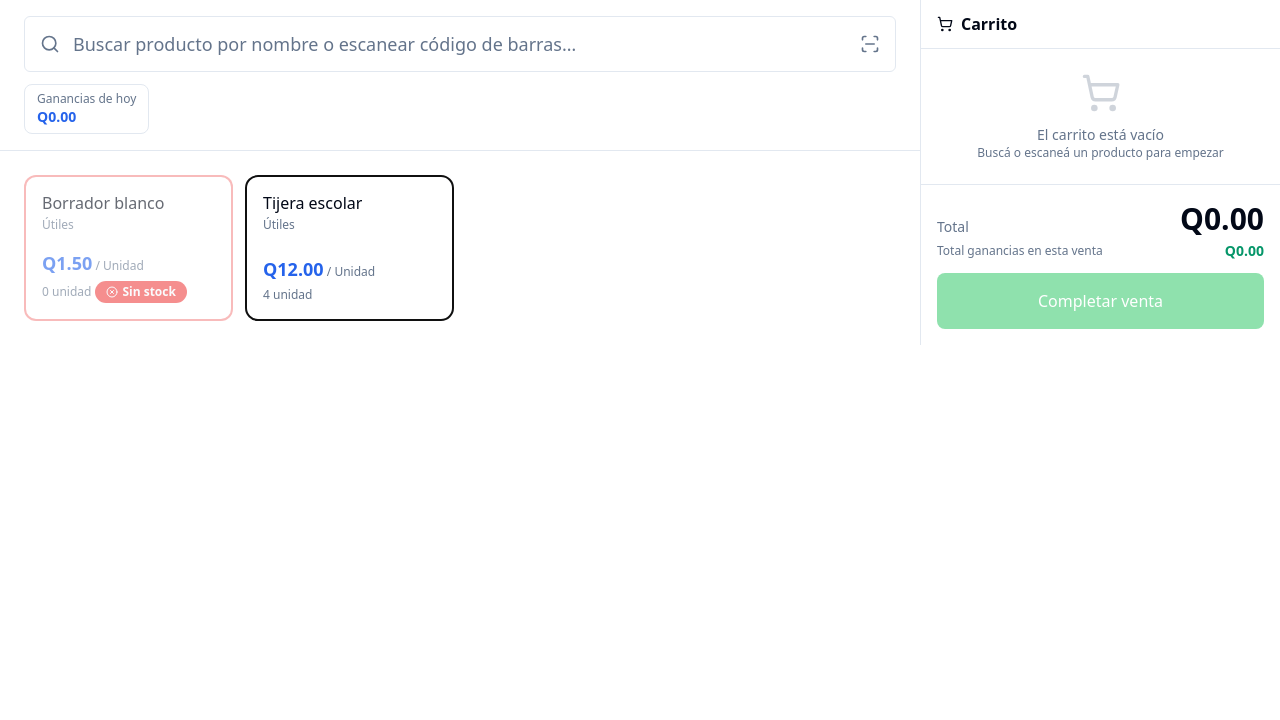
<POSScreen /> › H-07: returns focus to the search box after adding to the cart
The image size is (1280, 720).
Click the button "Tijera escolar".
click(350, 248)  # box [245, 175, 454, 321]
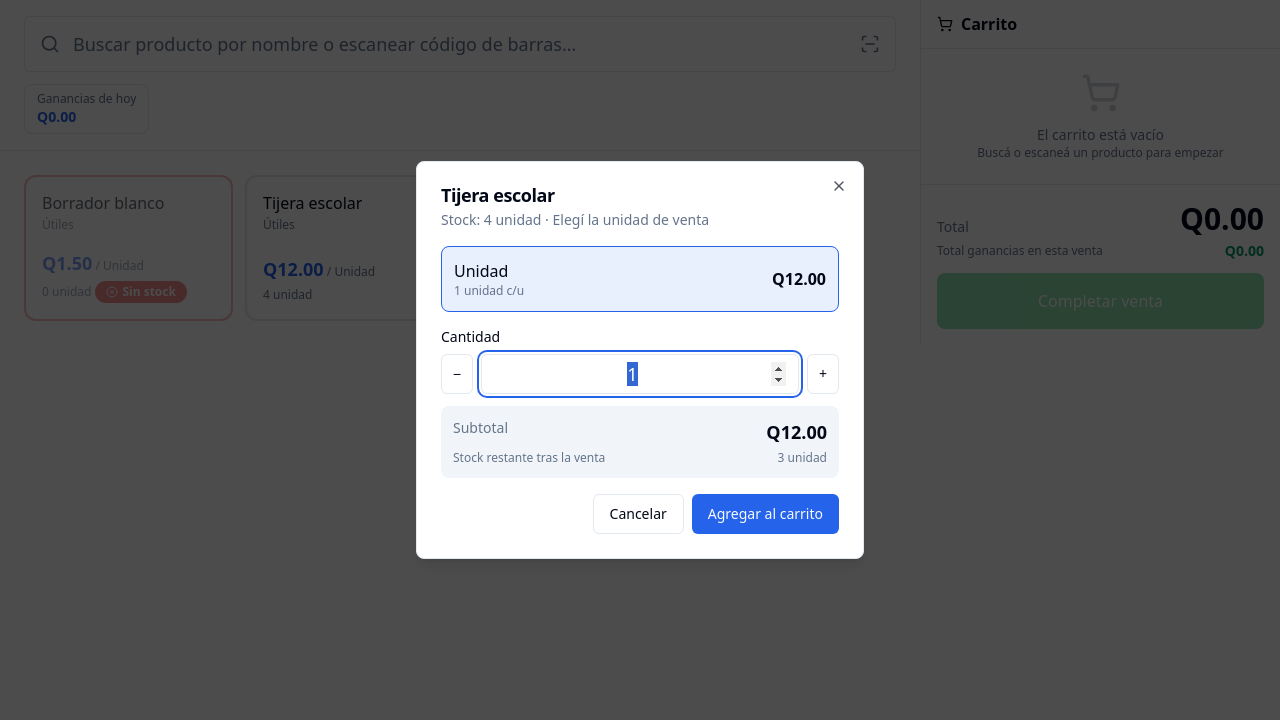
Click the button "Agregar al carrito".
click(765, 514)  # box [692, 494, 839, 534]
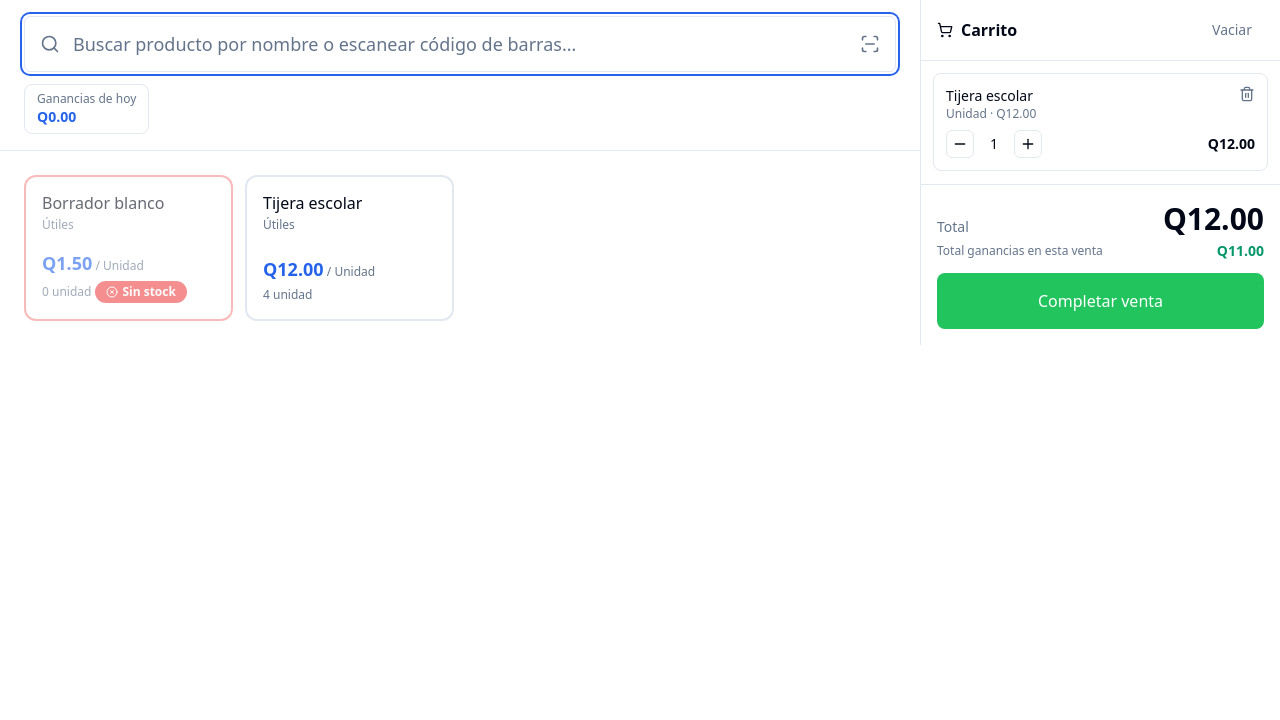
Expected: the dialog is gone
